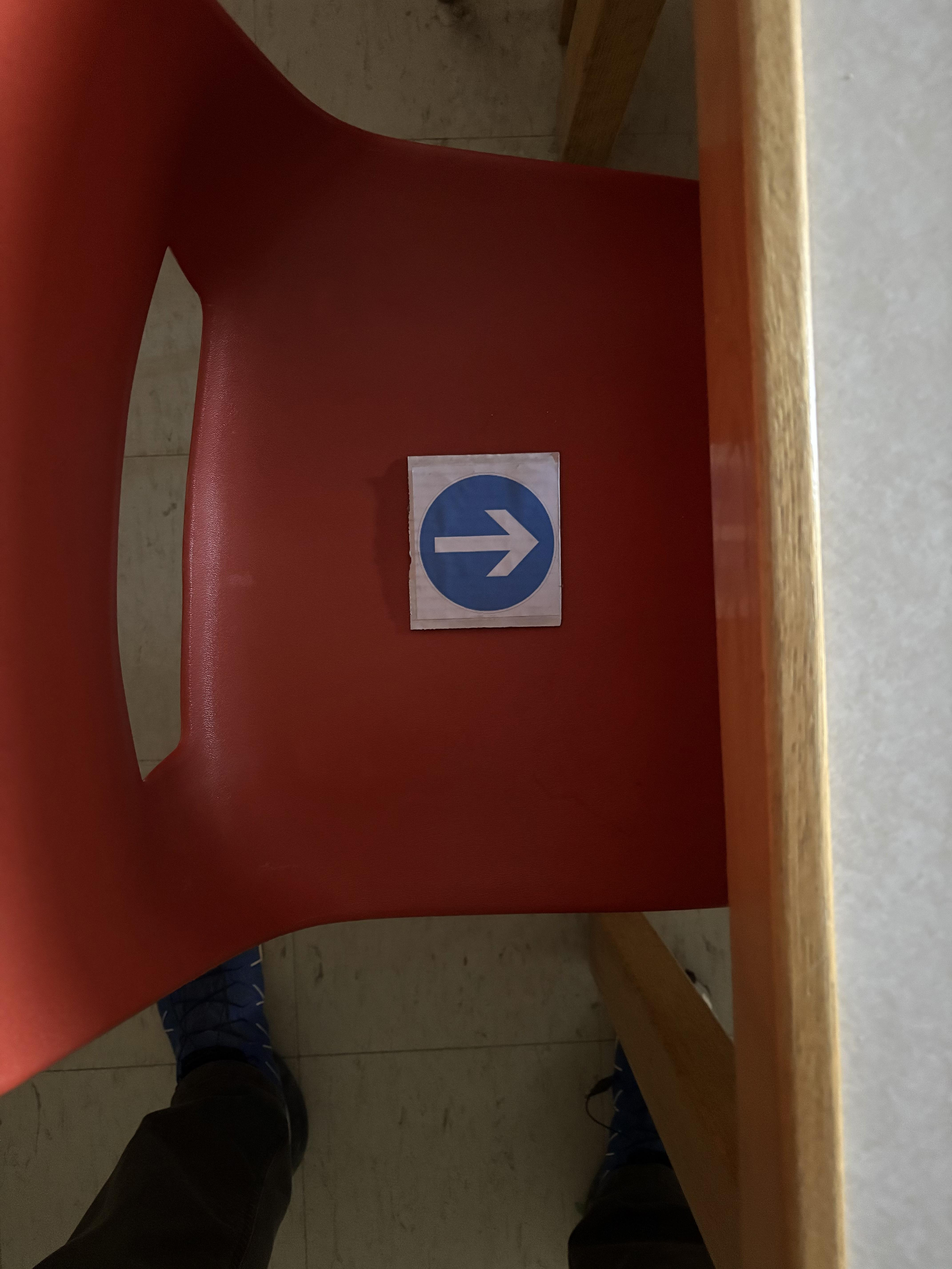Proceed Right: (409, 458, 559, 629)
